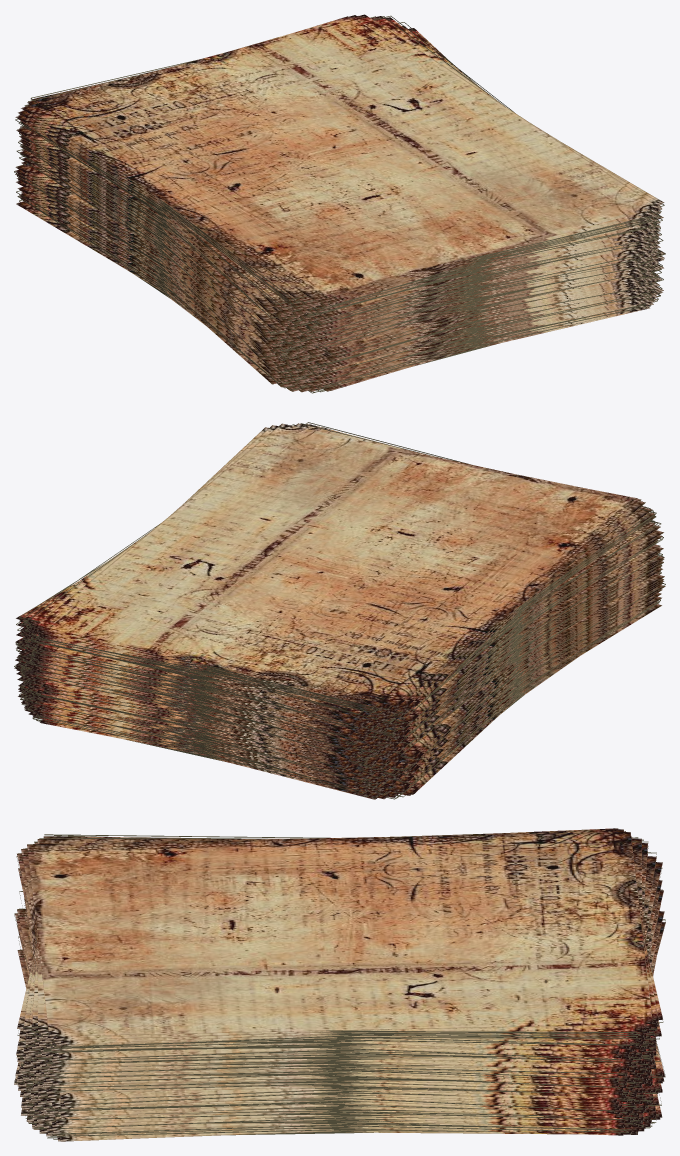
Rendered from paperwork.fbx.
3 views of the same model, one above another, from view 1: azimuth 30°, elevation 25°; view 2: azimuth 150°, elevation 25°; view 3: azimuth 270°, elevation 25° (orthographic). The views are drawn at different scales.
Parts seen in each view (by area): view 1: Plane.373, Plane.370, Plane.339, Plane.307, Plane.372, Plane.265, Plane.162, Plane.066, Plane.010, Plane.369, Plane.157, Plane.331 (+36 smaller); view 2: Plane.373, Plane.370, Plane.339, Plane.265, Plane.372, Plane.307, Plane.162, Plane.331, Plane.027, Plane.369, Plane.010, Plane.066 (+34 smaller); view 3: Plane.373, Plane.370, Plane.339, Plane.372, Plane.162, Plane.307, Plane.331, Plane.265, Plane.366, Plane.369, Plane.010, Plane.066 (+72 smaller).
Part boxes in pixels (x1,y1,x2,y2): Plane.373: [21, 14, 658, 300]; Plane.370: [27, 16, 652, 300]; Plane.339: [161, 25, 642, 307]; Plane.307: [16, 127, 663, 317]; Plane.372: [18, 15, 661, 301]; Plane.265: [160, 226, 638, 324]; Plane.162: [16, 163, 663, 353]; Plane.066: [17, 186, 661, 377]; Plane.010: [16, 201, 663, 390]; Plane.369: [31, 17, 648, 301]; Plane.157: [162, 255, 636, 350]; Plane.331: [156, 28, 637, 308]; Plane.373: [34, 423, 645, 706]; Plane.370: [27, 423, 652, 708]; Plane.339: [19, 523, 660, 717]; Plane.265: [16, 545, 663, 735]; Plane.372: [38, 425, 641, 706]; Plane.307: [41, 625, 516, 721]; Plane.162: [42, 659, 519, 757]; Plane.331: [16, 530, 663, 718]; Plane.027: [18, 603, 661, 794]; Plane.369: [24, 423, 655, 709]; Plane.010: [41, 694, 521, 794]; Plane.066: [38, 683, 519, 781]; Plane.373: [27, 832, 652, 1036]; Plane.370: [37, 838, 642, 1031]; Plane.339: [23, 856, 656, 1048]; Plane.372: [21, 829, 658, 1040]; Plane.162: [17, 909, 662, 1100]; Plane.307: [18, 868, 661, 1059]; Plane.331: [17, 862, 662, 1053]; Plane.265: [17, 880, 662, 1071]; Plane.366: [17, 828, 662, 1044]; Plane.369: [32, 836, 647, 1035]; Plane.010: [17, 950, 662, 1141]; Plane.066: [55, 1094, 659, 1124].
Bounding box in the file's own units: 172 × 37.56 × 216.
